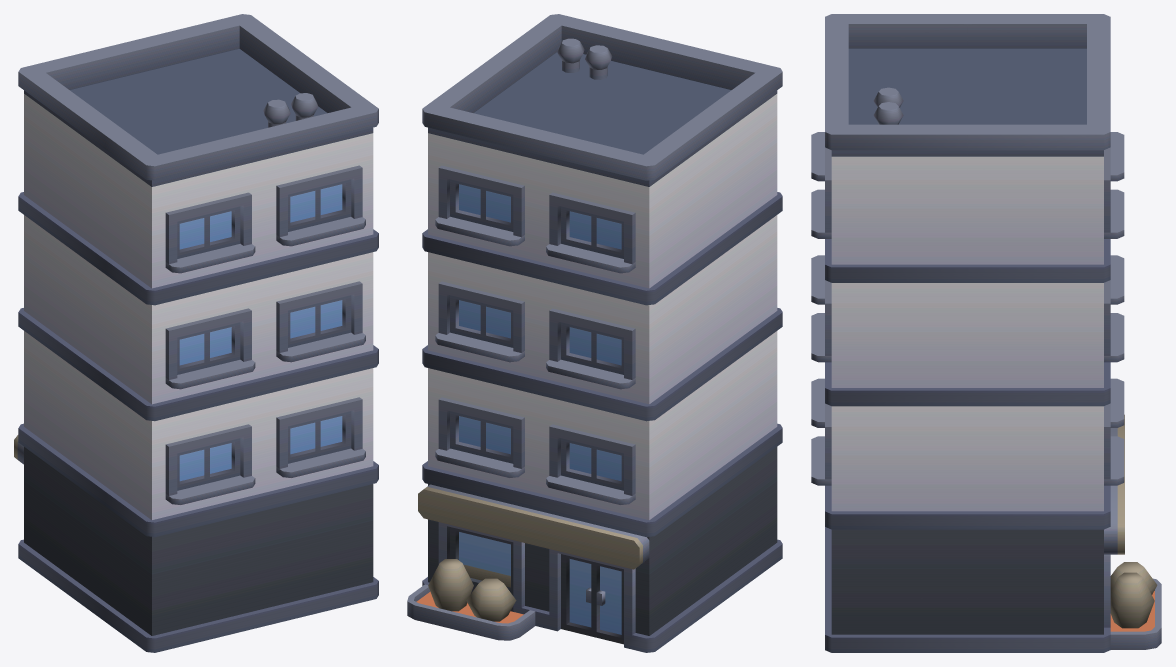
Rendered from building-f.glb.
The picture shows the model from 3 angles, left to right: view 1: azimuth 30°, elevation 25°; view 2: azimuth 150°, elevation 25°; view 3: azimuth 270°, elevation 25°; orthographic projection. The views are drawn at different scales.
Parts seen in each view (by area): view 1: building-f; view 2: building-f; view 3: building-f.
Part boxes in pixels (<box>): building-f: <box>14,14,378,652</box>; building-f: <box>407,14,782,652</box>; building-f: <box>811,14,1161,652</box>.
Bounding box in the file's own units: 0.84 × 1.69 × 1.03.
Materials: 1 (1 with a texture image).
